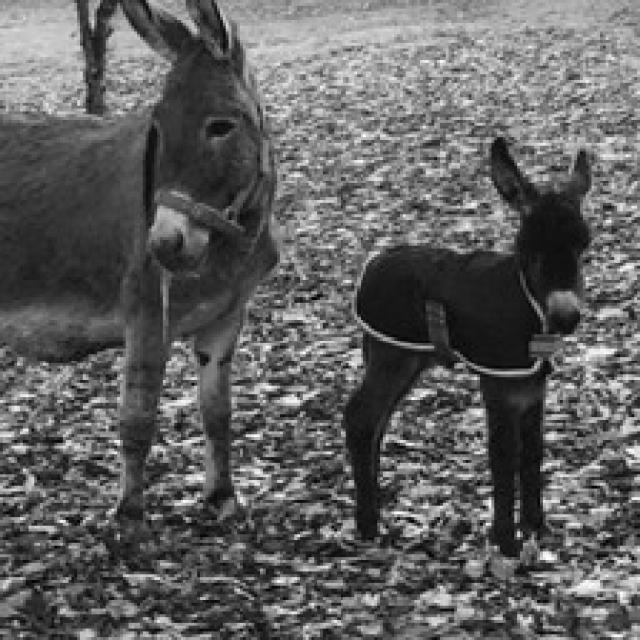Donkey: (0, 0, 280, 554), (340, 134, 594, 563)
